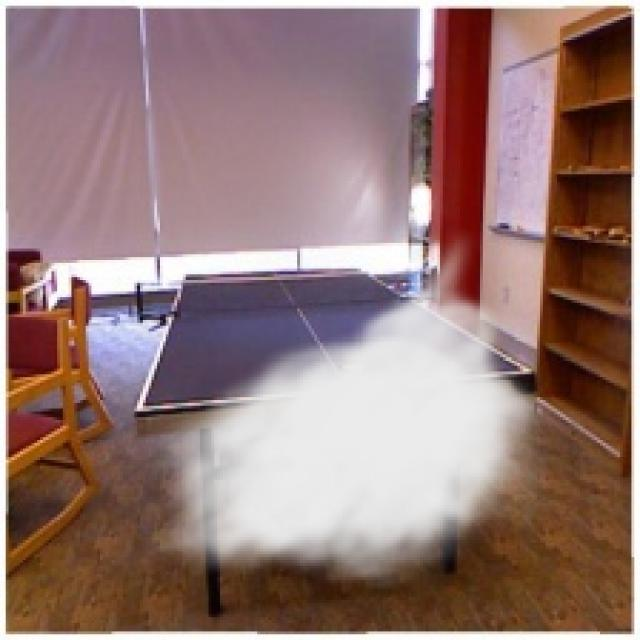smoke: (140, 226, 554, 591)
